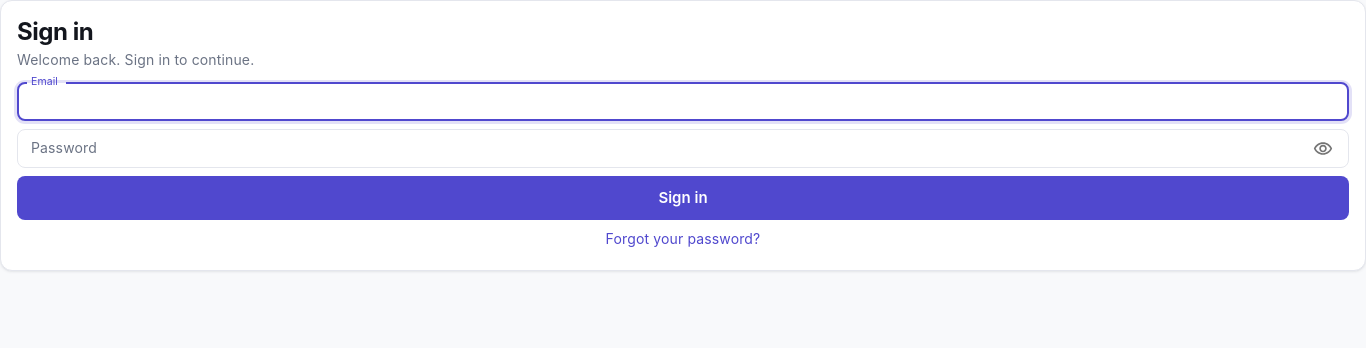
it: LoginForm › asks the visitor to wait when the rate limiter trips
Type "olivia@gym.local" into the field labelled "Email" at x=683, y=102, box [17,83,1349,121]
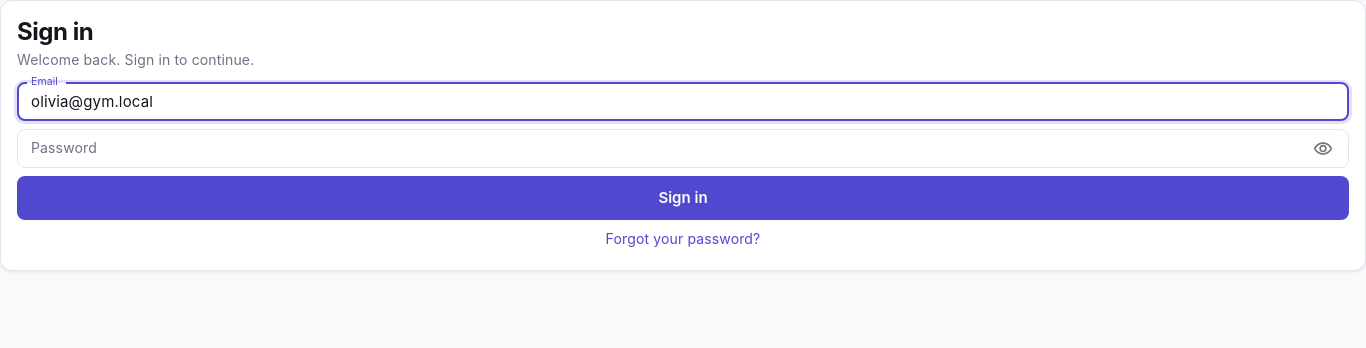
Type "ChangeMe123!" into the password field labelled "Password" at x=658, y=149, box [17,129,1300,168]
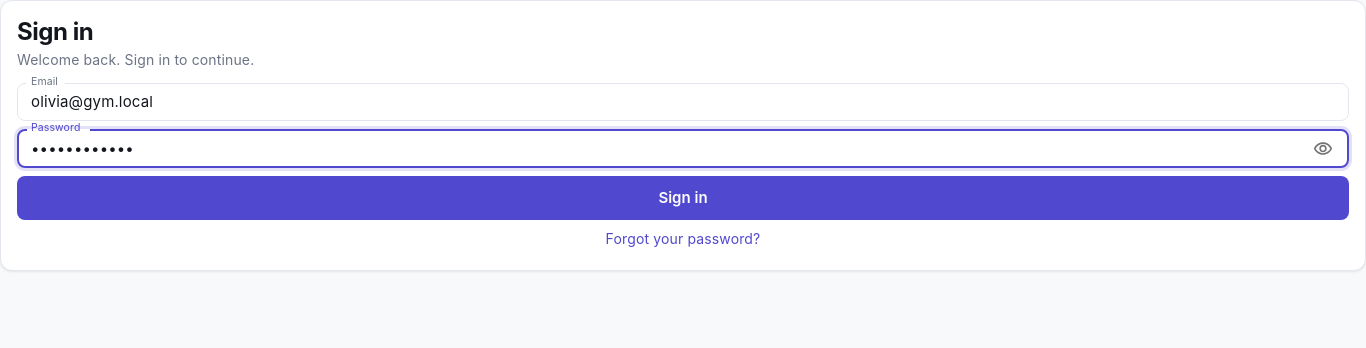
Click the button "Sign in" at x=683, y=198, box [17,176,1349,220]
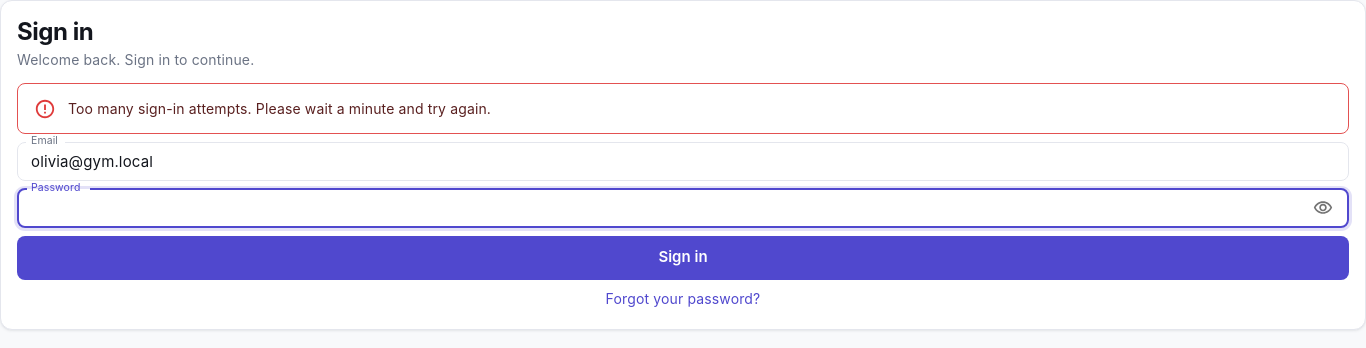
expect the message shows "Too many sign-in attempts": met, box [68,100,491,117]
